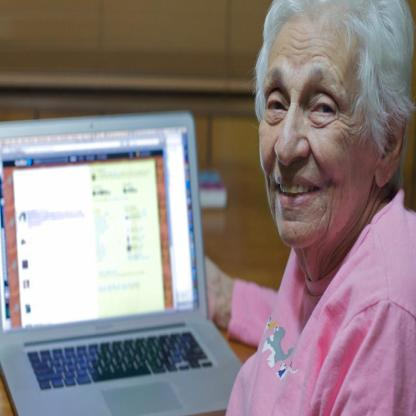board: (5, 120, 251, 416)
